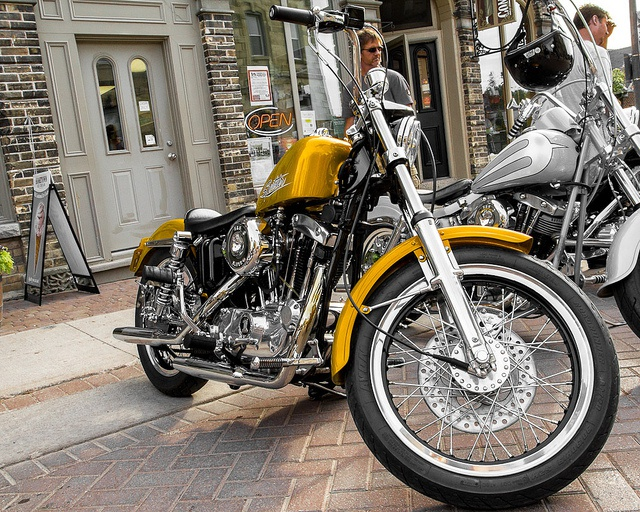non-vehicle: (112, 3, 620, 511), (337, 0, 640, 338)
